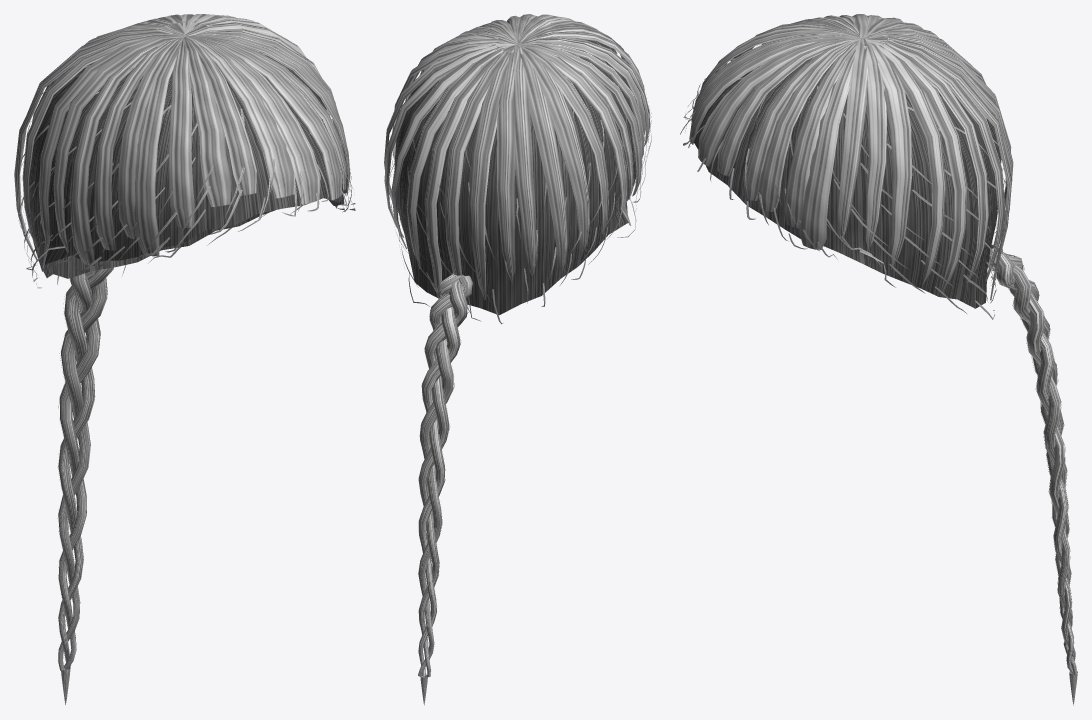
The model's file is unified_m_braid.glb.
3 renders of one model, left to right at view 1: azimuth 30°, elevation 25°; view 2: azimuth 150°, elevation 25°; view 3: azimuth 270°, elevation 25°, orthographic. The views are drawn at different scales.
Visible parts, largest first — view 1: Hair_directional_locks, Hair_scalp, Hair_braid_bundle.002, Hair_braid_bundle, Hair_braid_bundle.001, Hair_layered_strands, Hair_braid_fibres; view 2: Hair_directional_locks, Hair_scalp, Hair_braid_bundle.001, Hair_braid_bundle.002, Hair_braid_bundle, Hair_layered_strands, Hair_braid_fibres; view 3: Hair_directional_locks, Hair_scalp, Hair_layered_strands, Hair_braid_bundle, Hair_braid_bundle.002, Hair_braid_bundle.001, Hair_braid_fibres.
Boxes of the visible parts, x1=… form: Hair_directional_locks: x1=14, y1=14, x2=350, y2=268; Hair_scalp: x1=29, y1=47, x2=344, y2=278; Hair_braid_bundle.002: x1=58, y1=267, x2=113, y2=666; Hair_braid_bundle: x1=58, y1=273, x2=100, y2=669; Hair_braid_bundle.001: x1=58, y1=270, x2=107, y2=670; Hair_layered_strands: x1=18, y1=53, x2=355, y2=288; Hair_braid_fibres: x1=57, y1=268, x2=112, y2=666; Hair_directional_locks: x1=384, y1=14, x2=649, y2=300; Hair_scalp: x1=394, y1=38, x2=637, y2=315; Hair_braid_bundle.001: x1=418, y1=273, x2=467, y2=676; Hair_braid_bundle.002: x1=418, y1=275, x2=473, y2=676; Hair_braid_bundle: x1=418, y1=274, x2=463, y2=676; Hair_layered_strands: x1=389, y1=23, x2=651, y2=324; Hair_braid_fibres: x1=418, y1=286, x2=473, y2=674; Hair_directional_locks: x1=689, y1=14, x2=1013, y2=300; Hair_scalp: x1=694, y1=56, x2=1000, y2=308; Hair_layered_strands: x1=680, y1=52, x2=1007, y2=319; Hair_braid_bundle: x1=988, y1=247, x2=1073, y2=673; Hair_braid_bundle.002: x1=991, y1=245, x2=1077, y2=674; Hair_braid_bundle.001: x1=987, y1=249, x2=1075, y2=660; Hair_braid_fibres: x1=989, y1=263, x2=1075, y2=670.
Size of the model in its own units: 0.1017 by 0.2542 by 0.1363.
2 materials, 2 textured.
